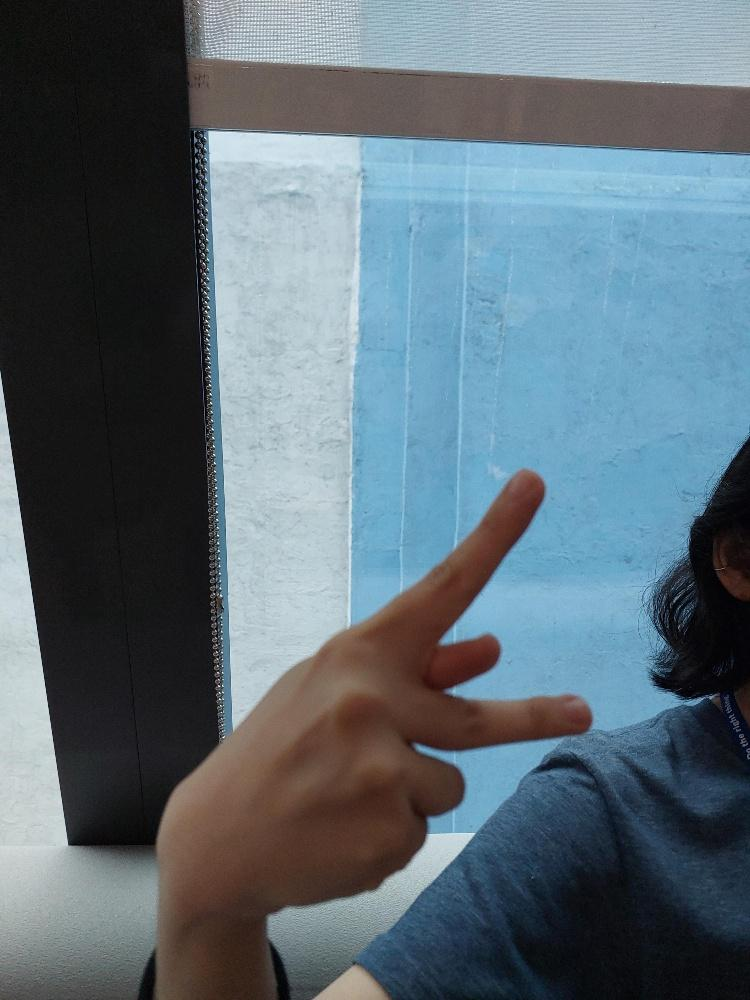k: (231, 467, 592, 913)
